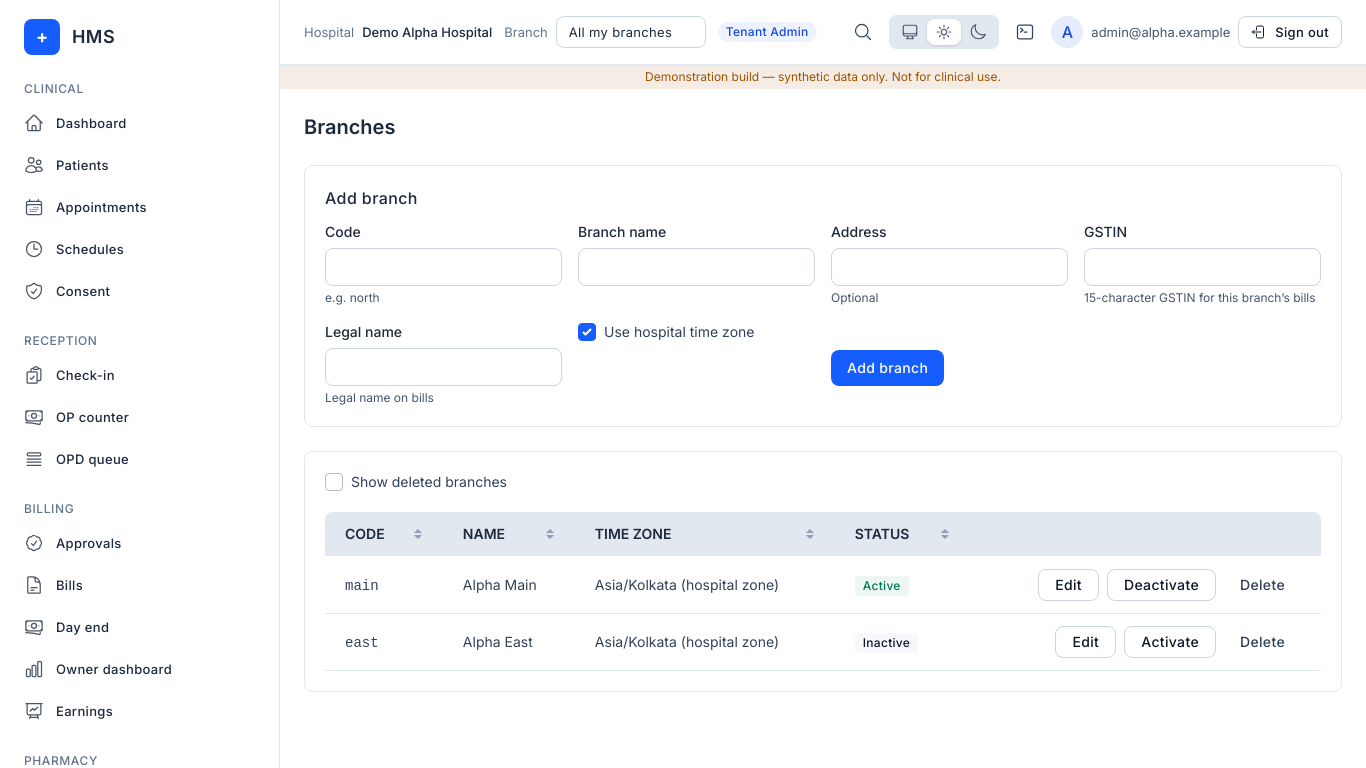
Test case: Branches: delete and restore › asks before deleting, shows the DB reason on 409, and restores from "Show deleted"
The image size is (1366, 768).
What coordinates should you click on to do the following:
click the button with aria-label "Delete Alpha Main"
I would click on:
 (1262, 585)
Its box is 1224,569 -> 1301,601.
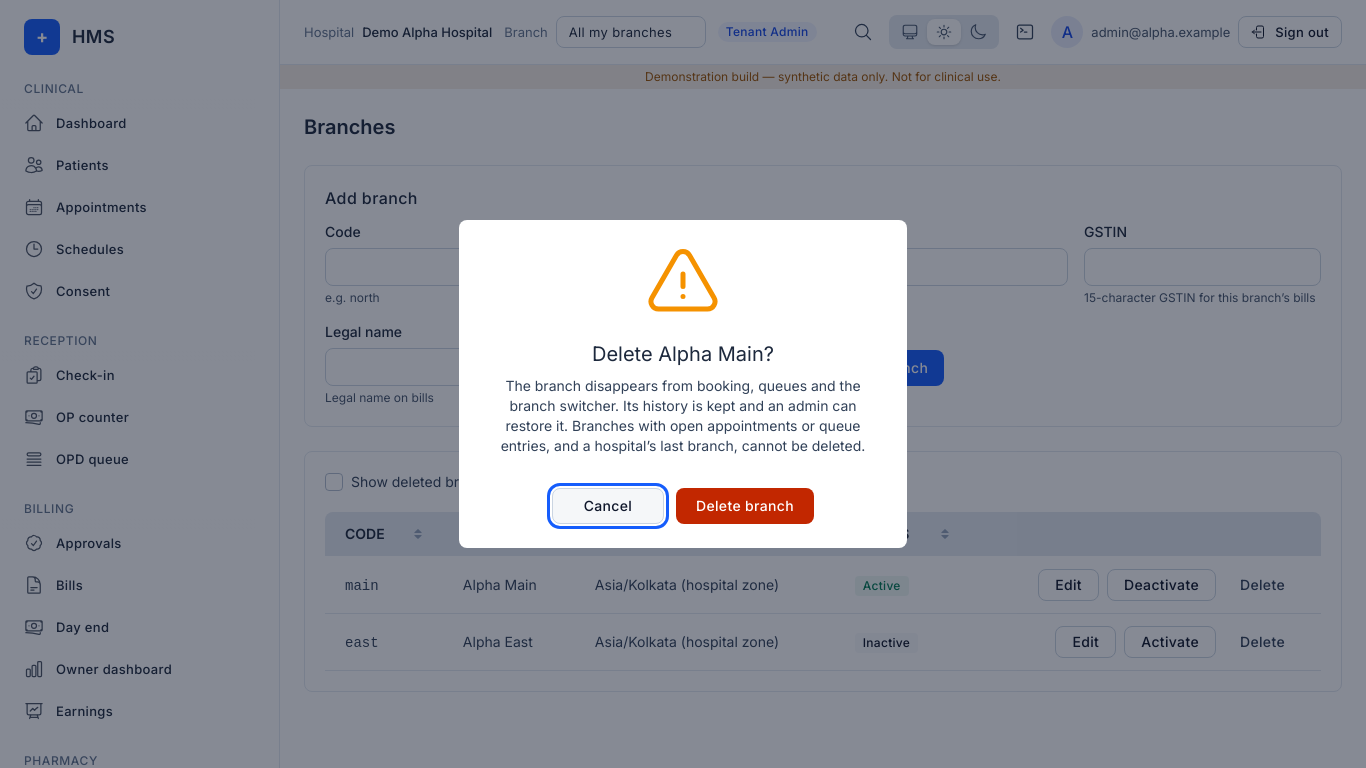
What coordinates should you click on to do the following:
click the button "Delete branch"
I would click on:
 (745, 506)
Its box is 676,488 -> 814,524.
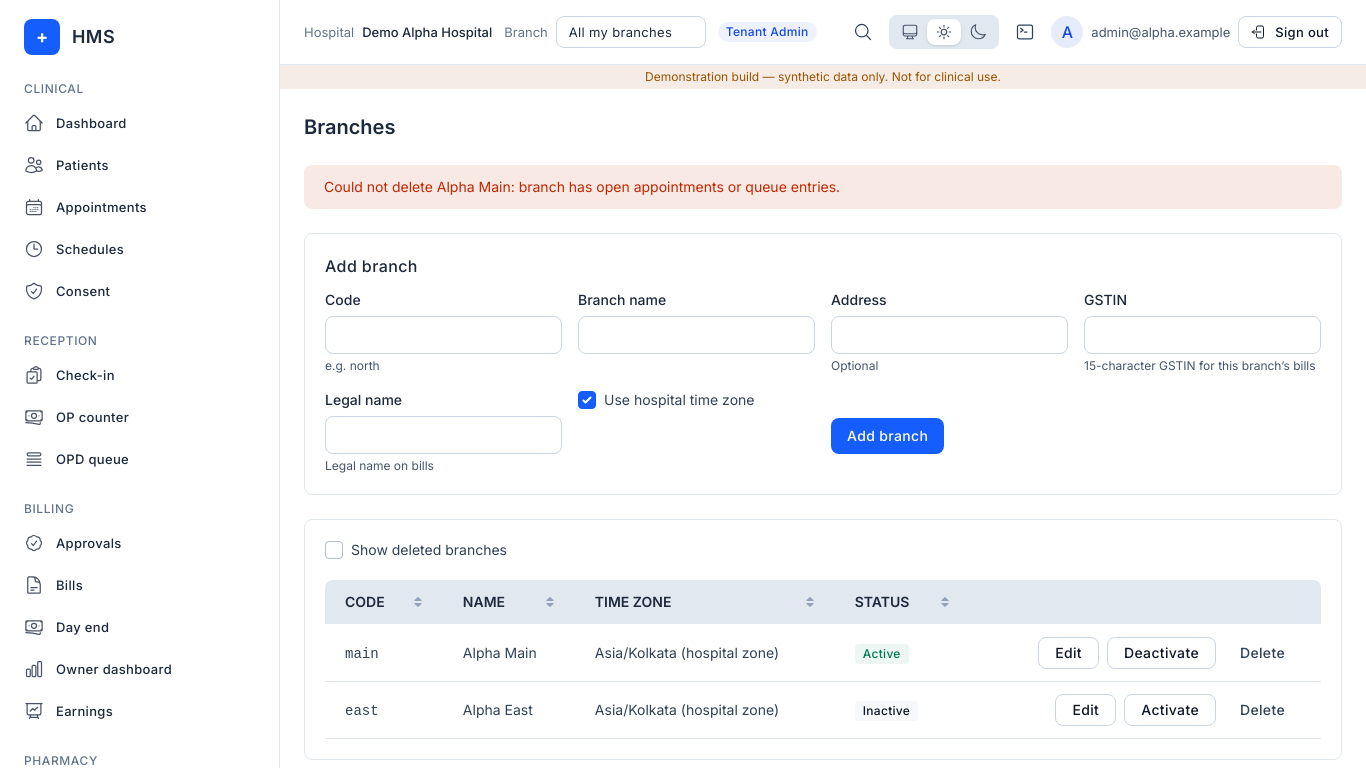
Check: the text "Could not delete Alpha Main: branch has open appointments or queue entries." is shown, box 304,165 -> 1342,209
What coordinates should you click on to do the following:
click the button with aria-label "Delete Alpha East"
I would click on:
 (1262, 710)
Its box is 1224,694 -> 1301,726.
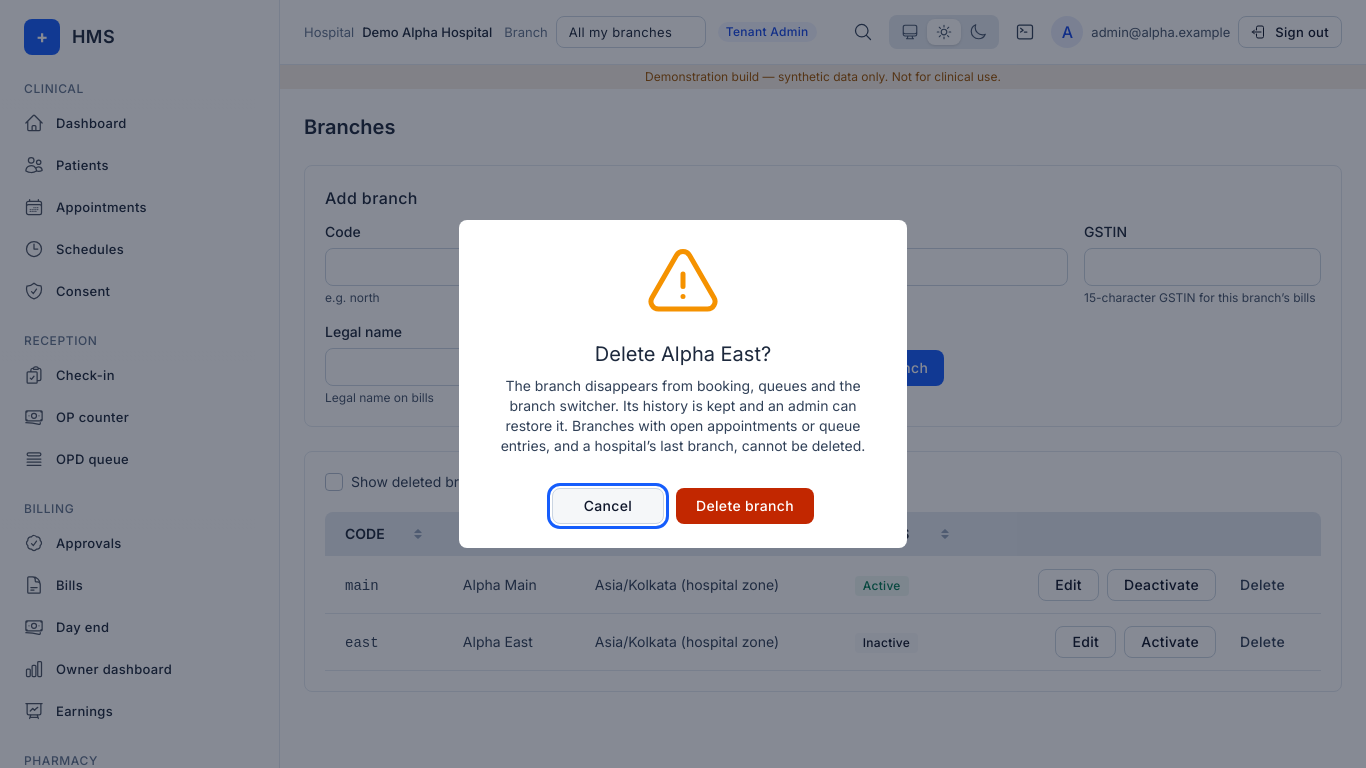
What coordinates should you click on to do the following:
click the button "Delete branch"
I would click on:
 (745, 506)
Its box is 676,488 -> 814,524.
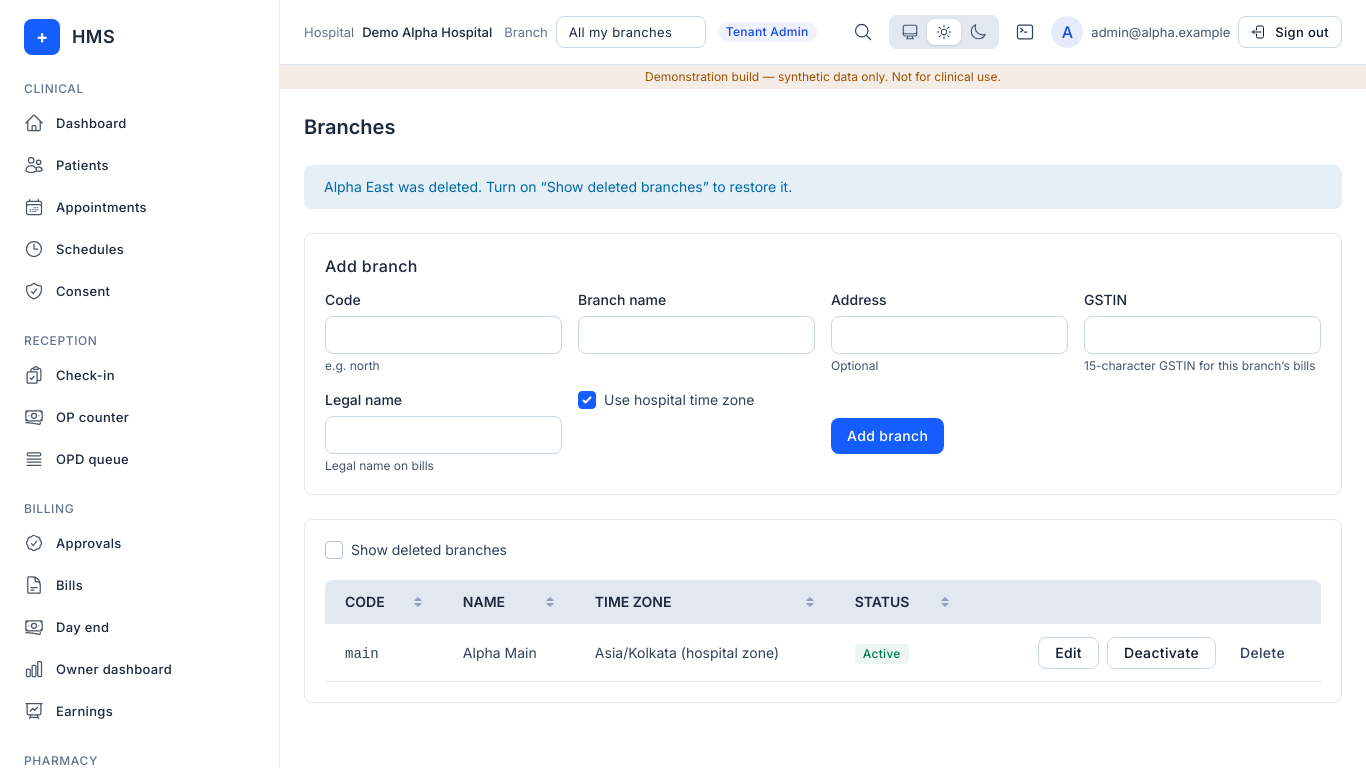
Check: the text "Alpha East was deleted. Turn on “Show deleted branches” to restore it." is shown, box 304,165 -> 1342,209
Check: the number of rows with test id "branch-row" is 1, box 325,624 -> 1321,682
What coordinates should you click on to do the following:
click the checkbox labelled "Show deleted branches"
I would click on:
 (334, 550)
Its box is 325,541 -> 343,559.
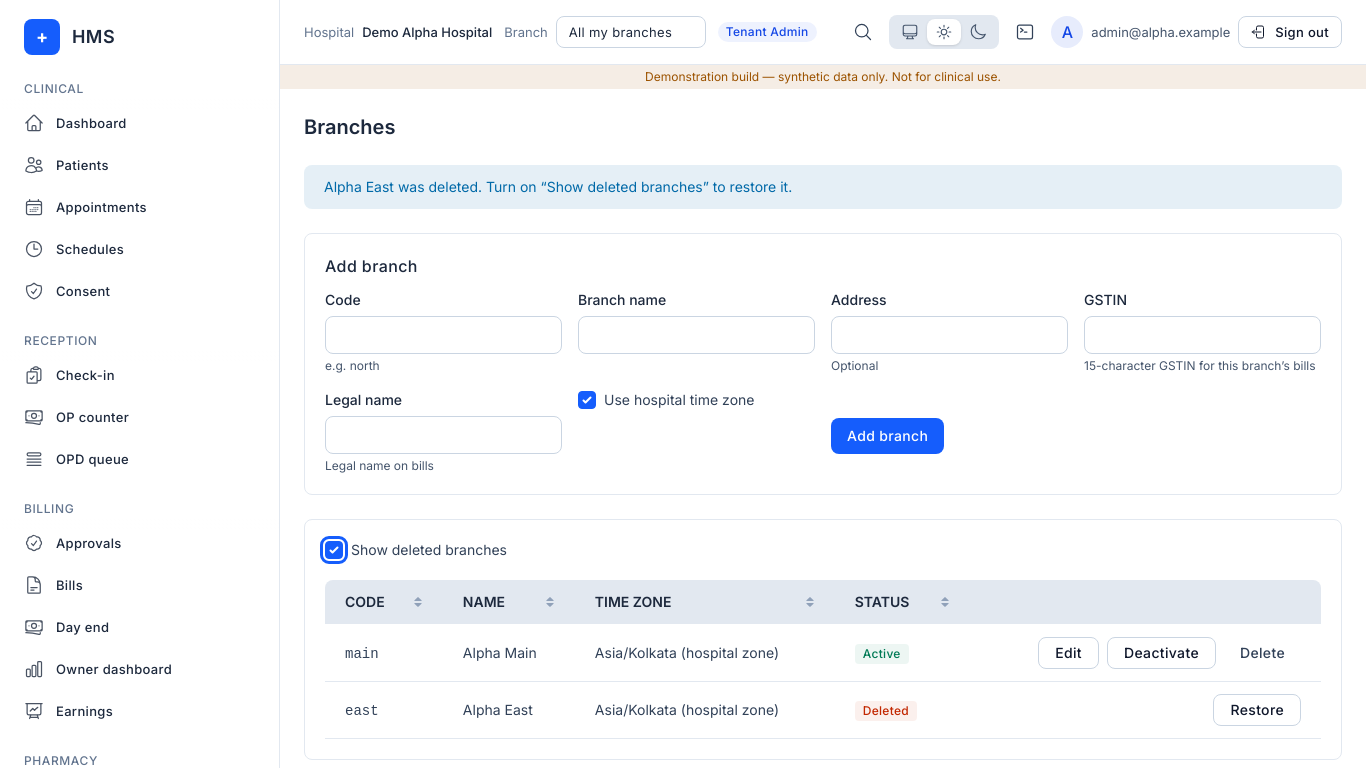
What coordinates should you click on to do the following:
click the button with aria-label "Restore Alpha East"
I would click on:
 (1257, 710)
Its box is 1214,694 -> 1301,726.
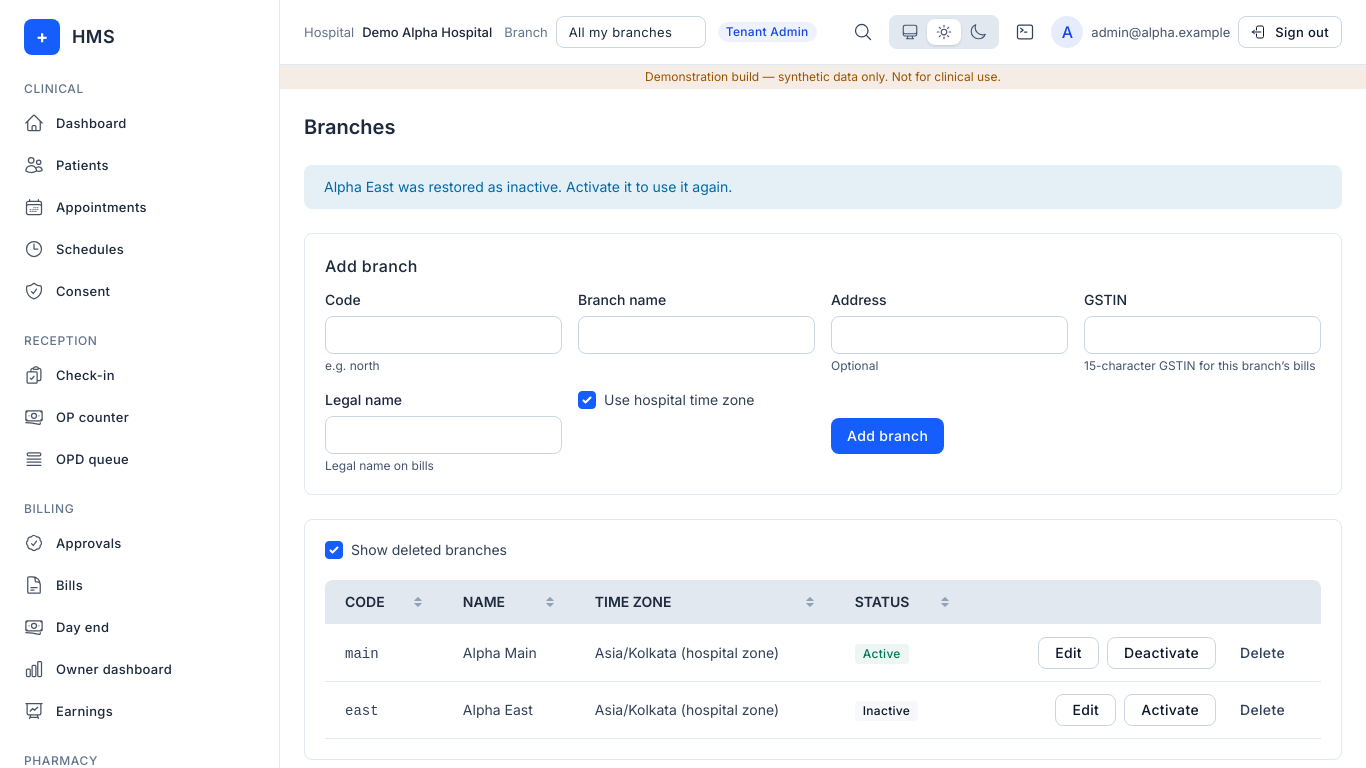
Check: the text "Alpha East was restored as inactive. Activate it to use it again." is shown, box 304,165 -> 1342,209
